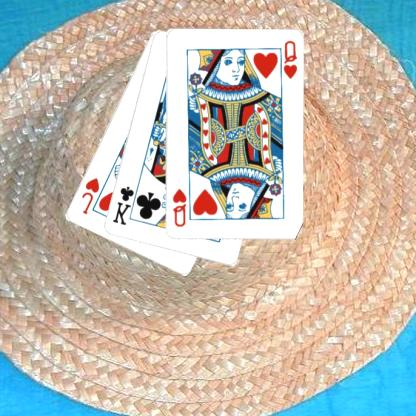JH: (80, 175, 103, 216)
KC: (111, 182, 142, 227)
QH: (278, 38, 300, 86), (171, 186, 189, 229)
